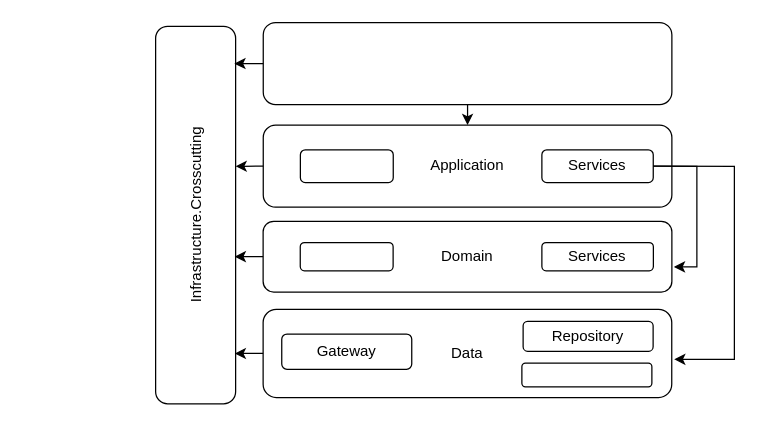
The diagram is 766 pixels wide and 429 high, and some of its shapes have lost their labels. Each missing label, with the centre of its shape:
"DBO" belongs at (x=586, y=374).
"DTO" belongs at (x=346, y=165).
"Model" belongs at (x=346, y=256).
"Presentation.API" belongs at (x=467, y=63).
